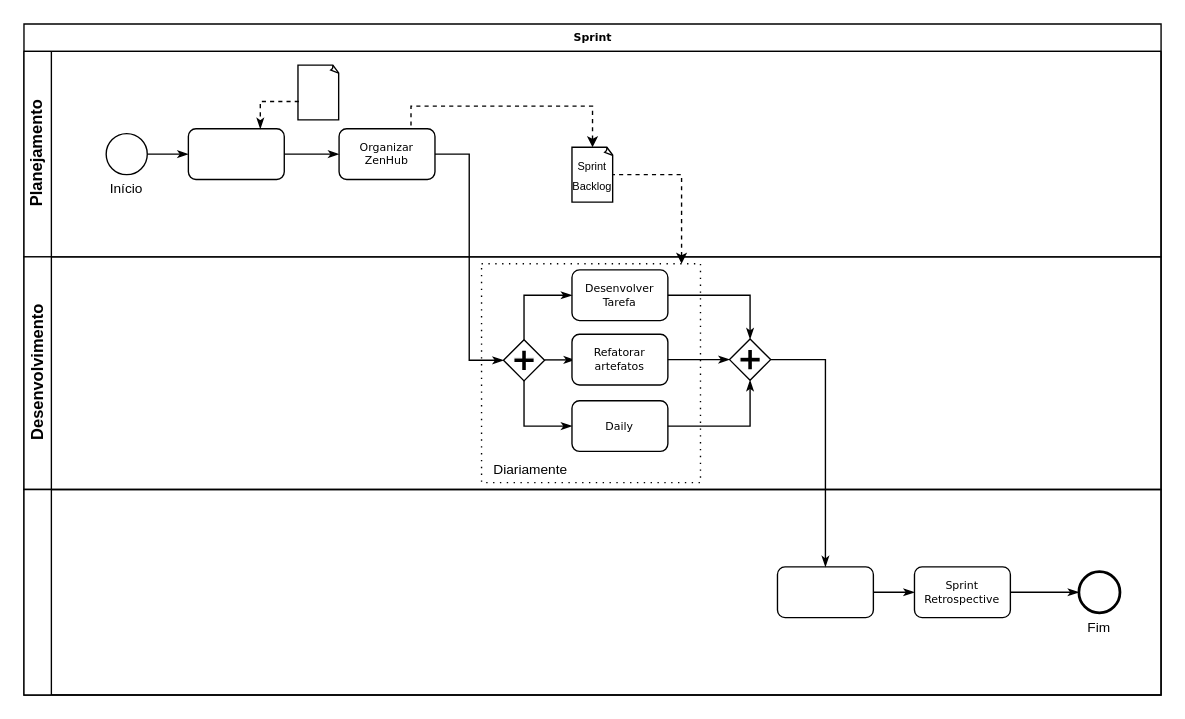
This 1185x719 diagram has some shape labels left out. Each missing label, with the box of its shape:
Product Backlog: (297, 64, 339, 120)
Revisão: (23, 488, 1161, 695)
Sprint Planning: (187, 127, 284, 179)
Sprint Review: (776, 566, 873, 618)
